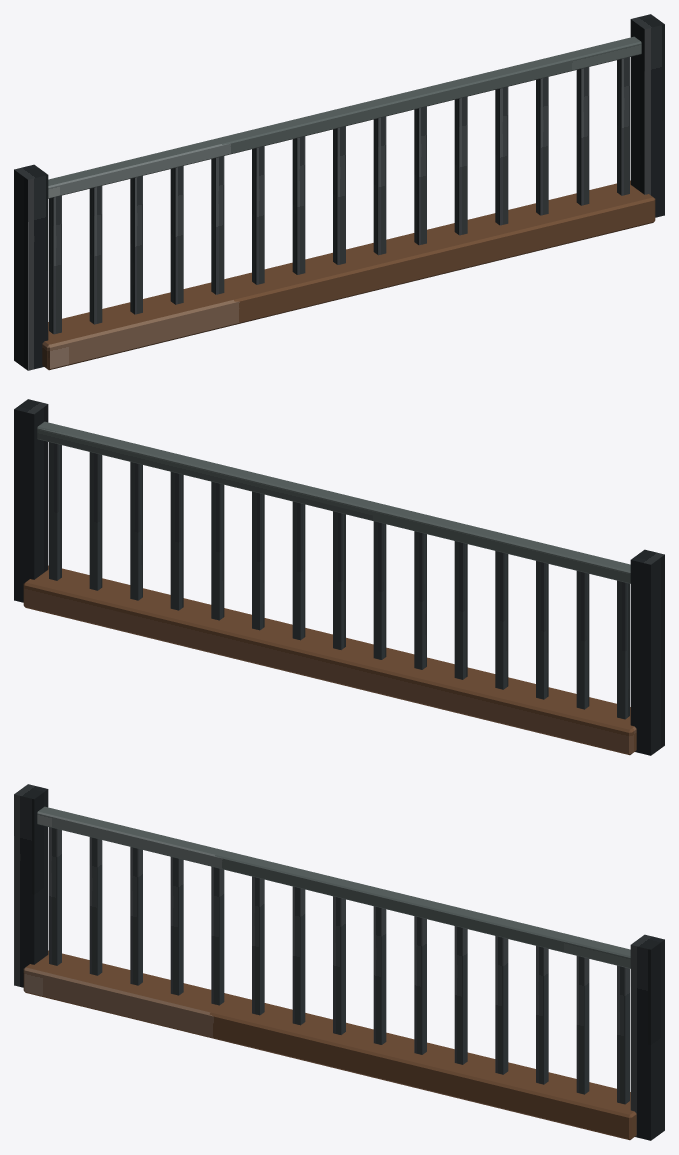
File: sewer_overflow_grate.glb
3 renders of one model, top to bottom at view 1: azimuth 30°, elevation 25°; view 2: azimuth 150°, elevation 25°; view 3: azimuth 330°, elevation 25°, orthographic.
Visible parts, largest first — view 1: Sill, TopRail, PostL, PostR, Bar11, Bar04, Bar06, Bar13, Bar01, Bar08, Bar10, Bar03 (+7 smaller); view 2: Sill, TopRail, PostL, PostR, Bar11, Bar04, Bar06, Bar13, Bar01, Bar08, Bar10, Bar03 (+7 smaller); view 3: Sill, TopRail, PostR, PostL, Bar03, Bar01, Bar08, Bar10, Bar04, Bar06, Bar13, Bar11 (+7 smaller).
Part boxes in pixels (x1,y1,x2,y2): Sill: [42, 180, 655, 370]; TopRail: [48, 36, 641, 198]; PostL: [14, 164, 48, 370]; PostR: [630, 14, 664, 217]; Bar11: [495, 87, 508, 225]; Bar04: [211, 156, 224, 294]; Bar06: [292, 136, 305, 274]; Bar13: [576, 67, 589, 205]; Bar01: [89, 186, 102, 324]; Bar08: [373, 116, 386, 255]; Bar10: [454, 96, 467, 235]; Bar03: [170, 166, 183, 304]; Sill: [23, 565, 636, 755]; TopRail: [37, 421, 630, 583]; PostL: [630, 549, 664, 755]; PostR: [14, 399, 48, 602]; Bar11: [170, 472, 183, 610]; Bar04: [454, 541, 467, 679]; Bar06: [373, 521, 386, 659]; Bar13: [89, 452, 102, 590]; Bar01: [576, 571, 589, 709]; Bar08: [292, 501, 305, 640]; Bar10: [211, 481, 224, 620]; Bar03: [495, 551, 508, 689]; Sill: [23, 950, 636, 1140]; TopRail: [37, 806, 630, 968]; PostR: [630, 934, 664, 1140]; PostL: [14, 784, 48, 987]; Bar03: [170, 857, 183, 995]; Bar01: [89, 837, 102, 975]; Bar08: [373, 906, 386, 1044]; Bar10: [454, 926, 467, 1064]; Bar04: [211, 866, 224, 1005]; Bar06: [292, 886, 305, 1025]; Bar13: [576, 956, 589, 1094]; Bar11: [495, 936, 508, 1074].
Bounding box in the file's own units: 3.14 × 0.9 × 0.22.
3 materials, 3 textured.
